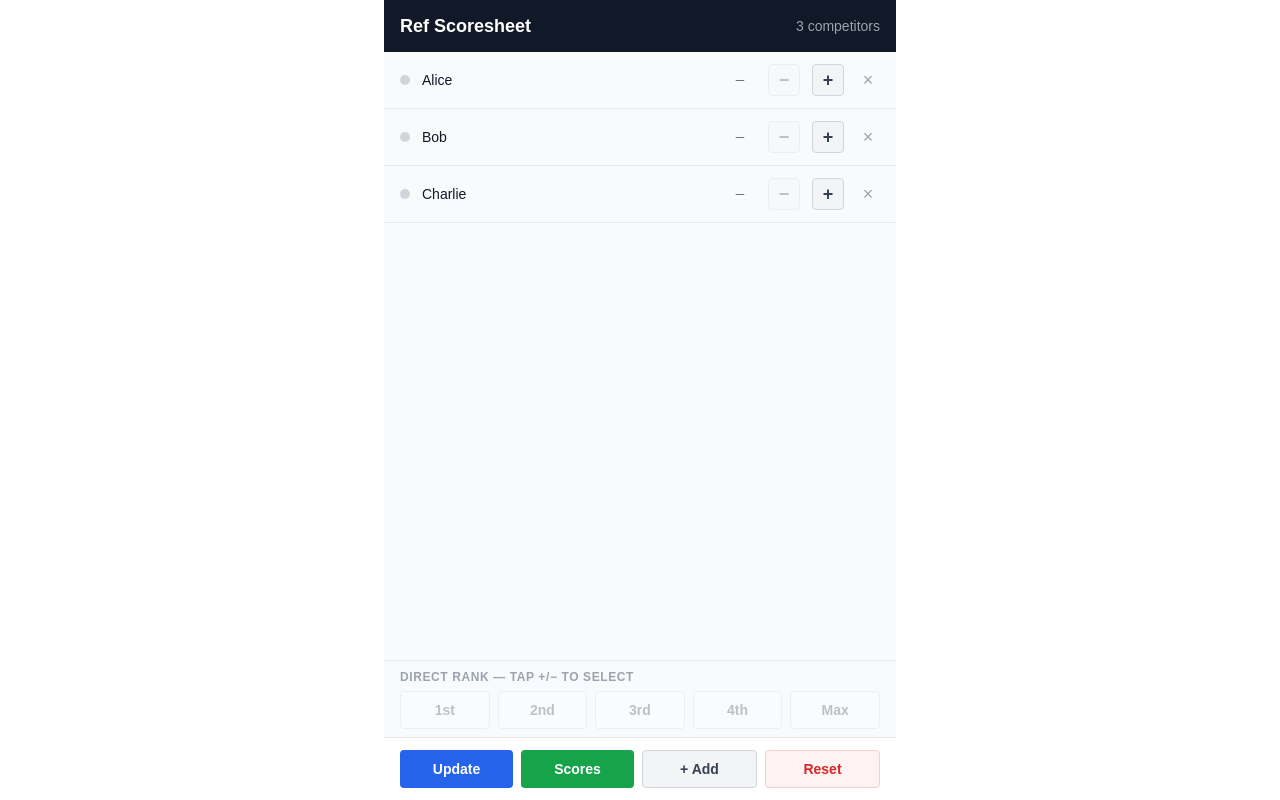
ScoresheetPage › Reset confirm restores 5 default empty rows
Click the button "Reset": (822, 769) [765,750,880,788]
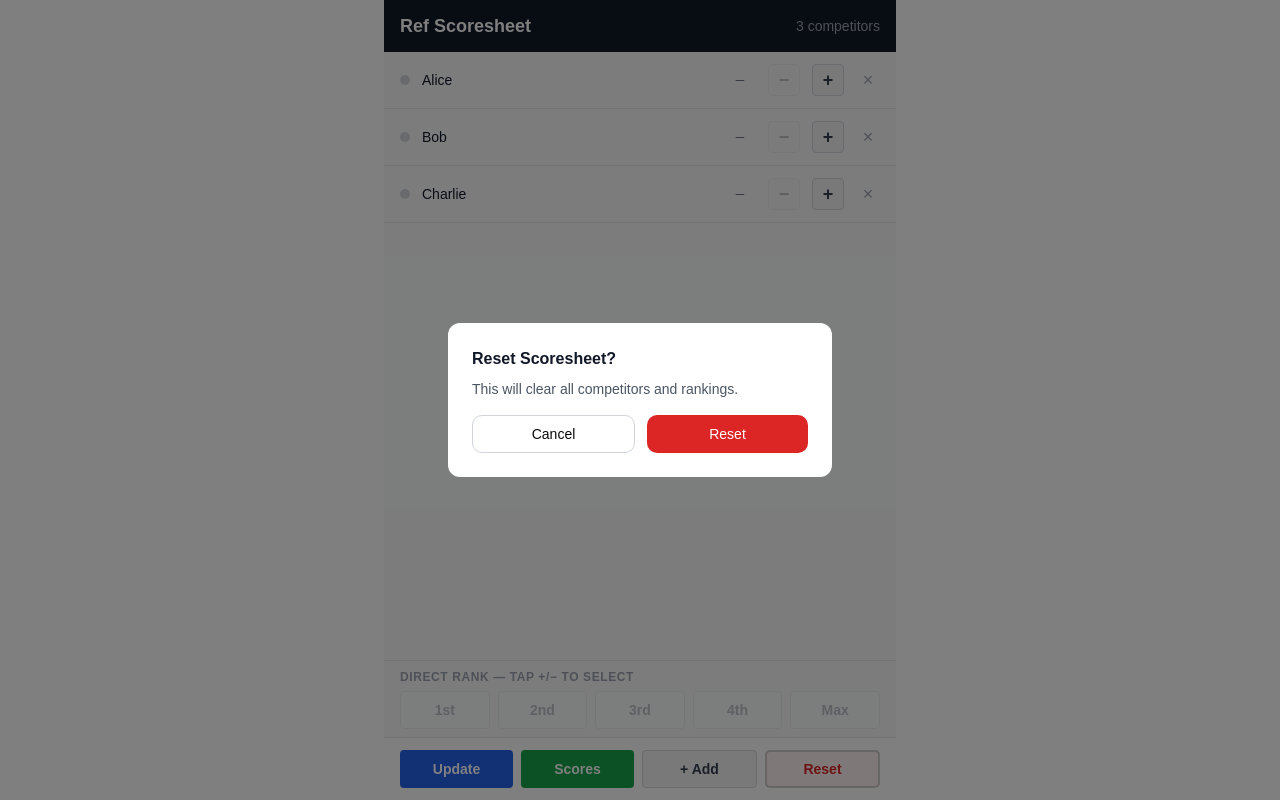
Click the button "Reset": (728, 434) [647,415,808,453]
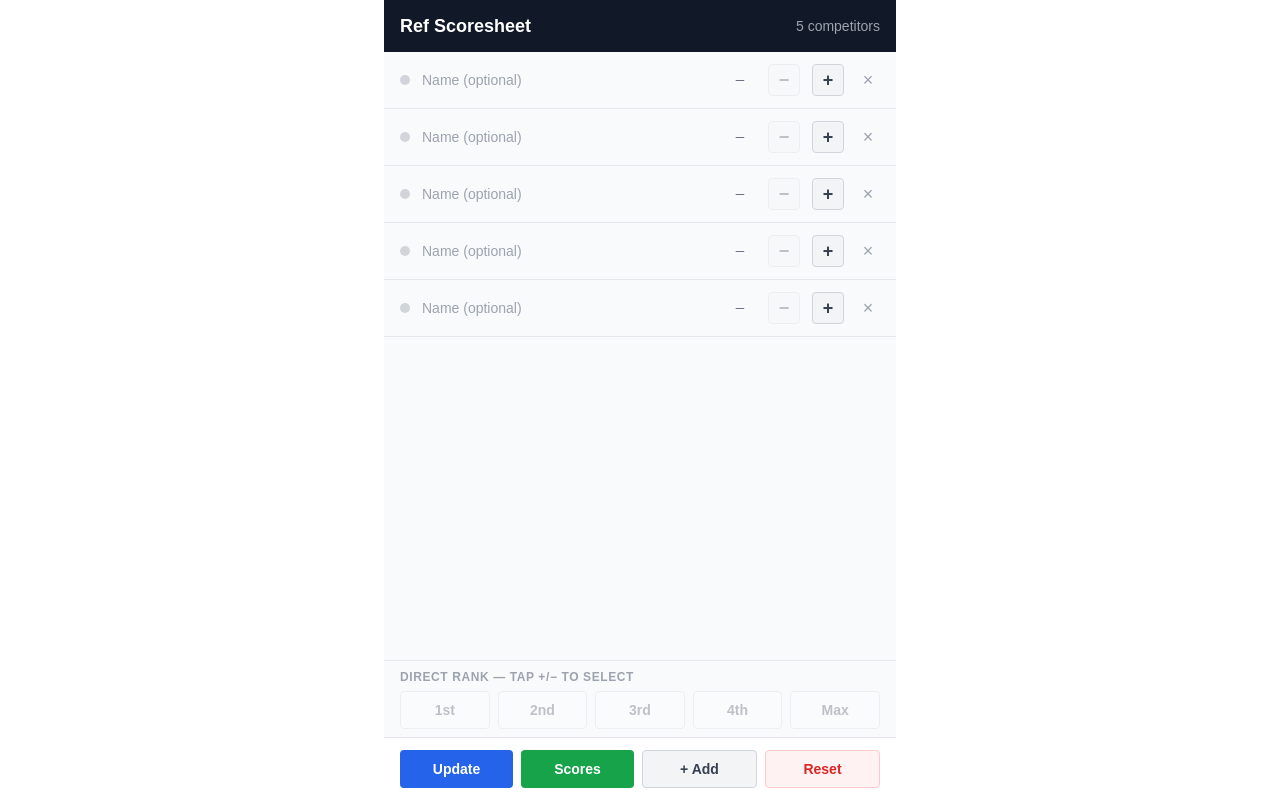
Expected: the field showing "Alice" is not shown
Expected: the number of fields with placeholder "Name (optional)" is 5, [422,70,712,90]; [422,127,712,147]; [422,184,712,204]; [422,241,712,261]; [422,298,712,318]
